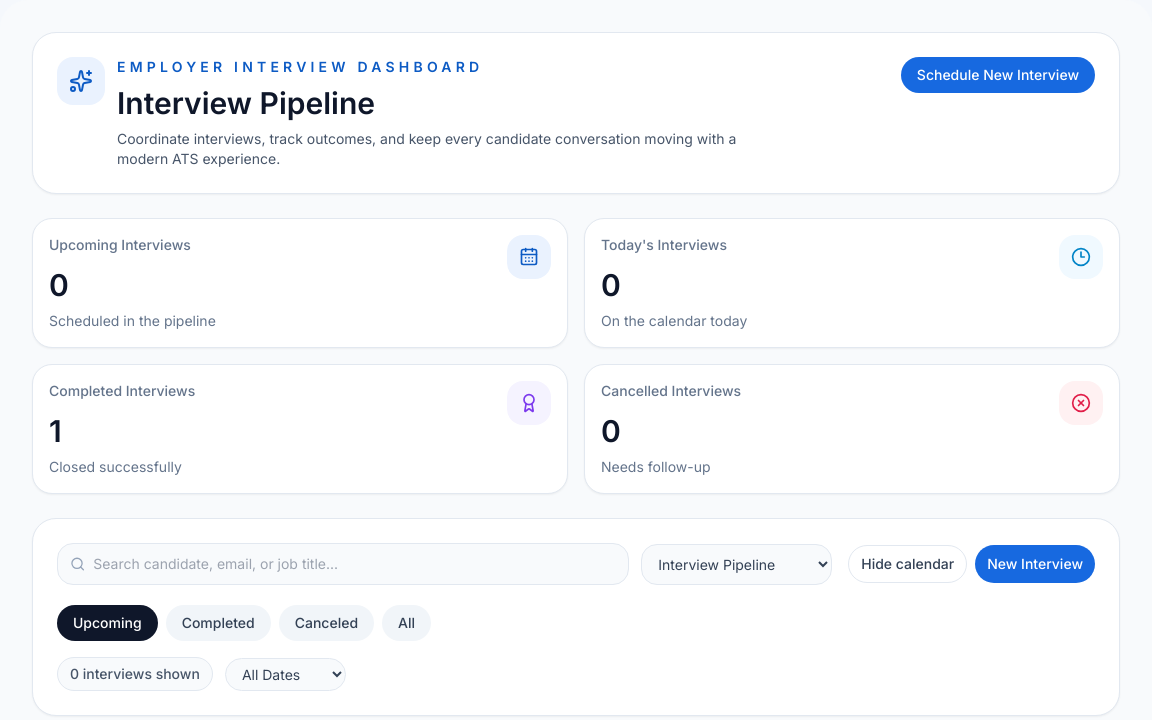
Test: EmployerInterviews › shows completed interview evaluation controls and opens the assessment modal
Click the button "Completed".
click(218, 623)  # box [166, 605, 271, 641]
(page scrolled)
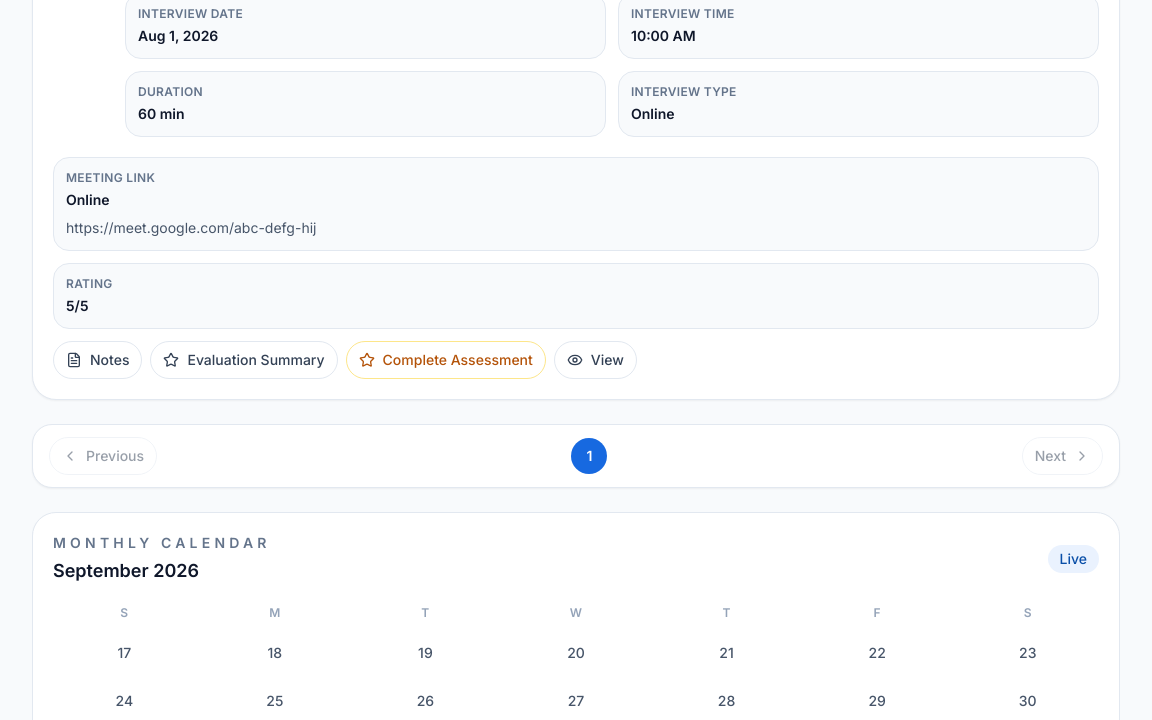
Expected: the text "Rating" is shown, [66, 276, 113, 291]
Click the button "Complete Assessment".
click(446, 360)  # box [346, 341, 546, 379]
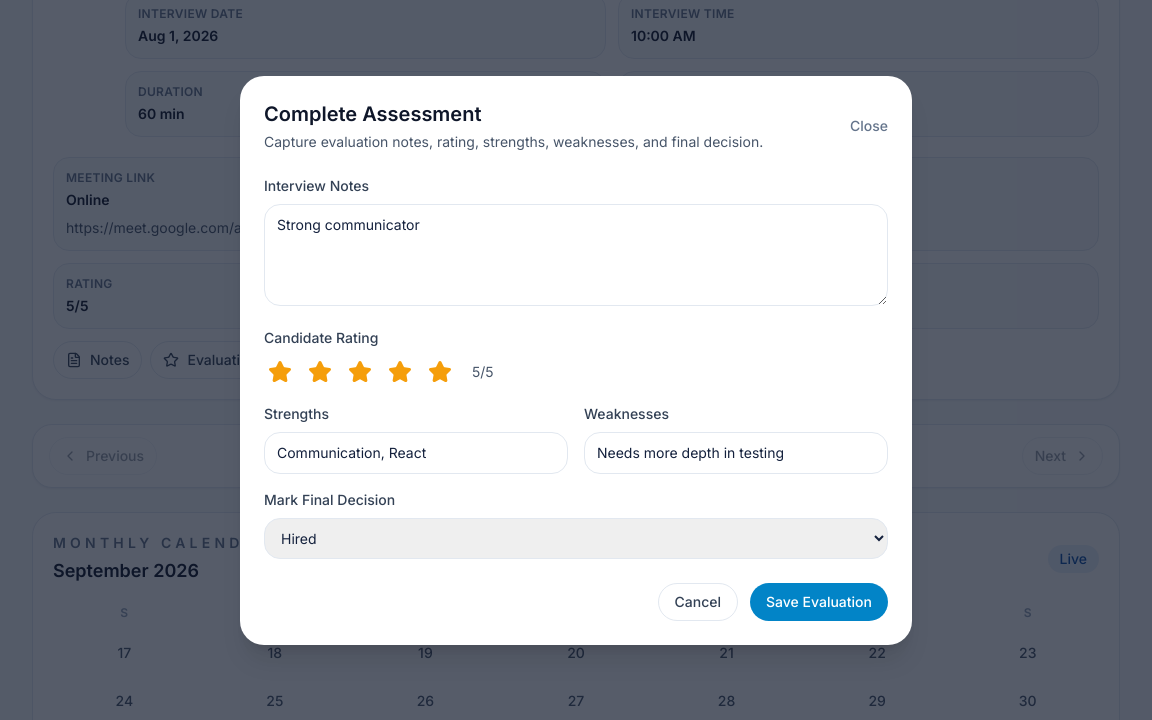
Expected: the heading "Complete Assessment" is shown, [264, 102, 482, 126]
Expected: the text box labelled "Interview Notes" is shown, [264, 204, 888, 306]
